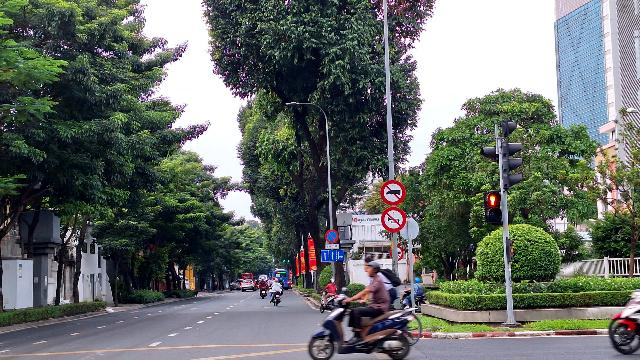cam-bop-coi: (381, 207, 406, 232)
cam-do-xe: (325, 229, 339, 243)
